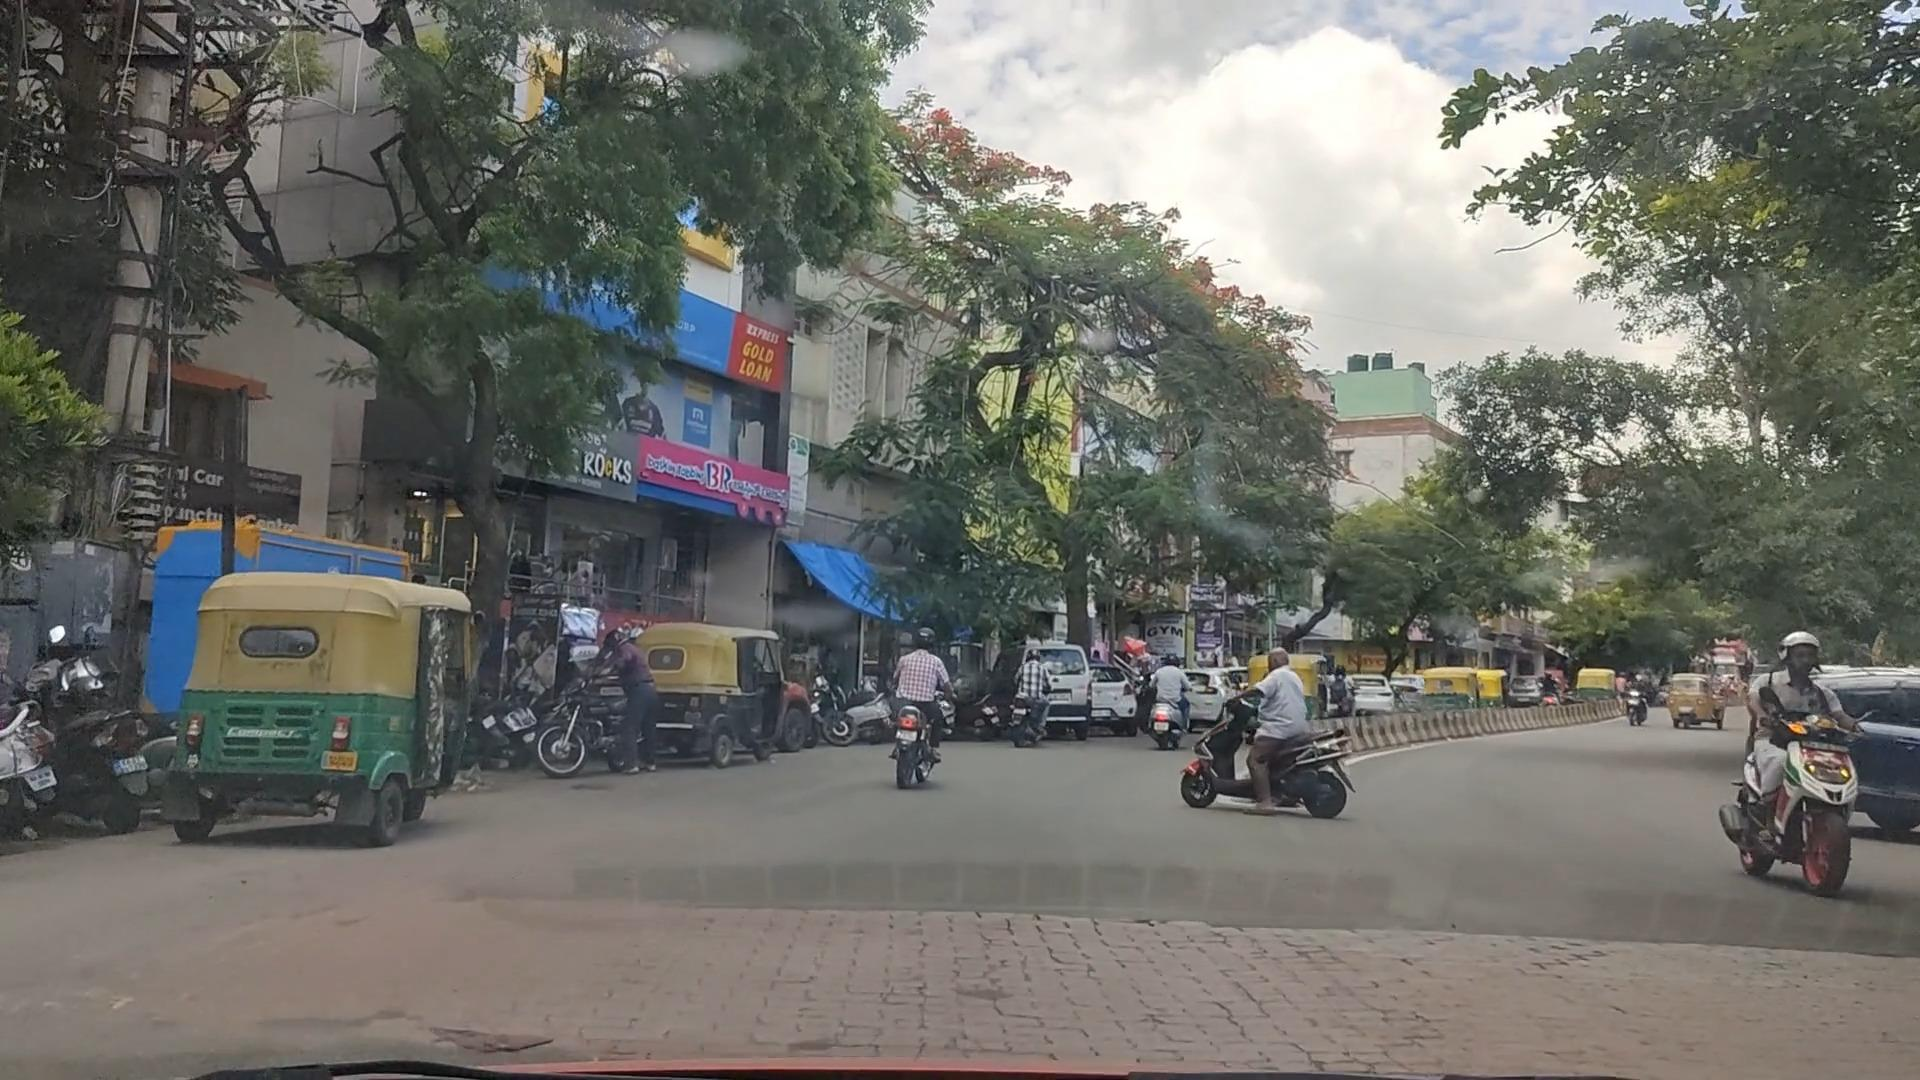LMV: (145, 549, 473, 852), (886, 621, 953, 798)
SpeedBump: (131, 870, 1249, 1080)
